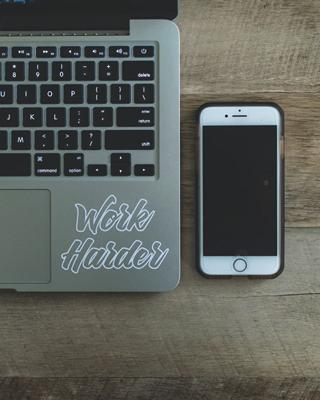Mobile Phone: (194, 100, 285, 279)
